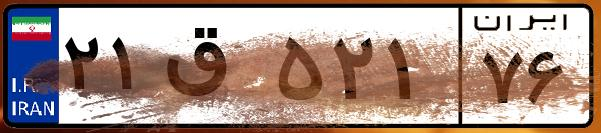1: (385, 28, 445, 110), (110, 28, 158, 98)
2: (330, 28, 385, 110), (57, 26, 110, 100)
5: (270, 28, 330, 110)
6: (525, 38, 570, 115)
7: (475, 38, 525, 113)
ق: (158, 20, 270, 120)
